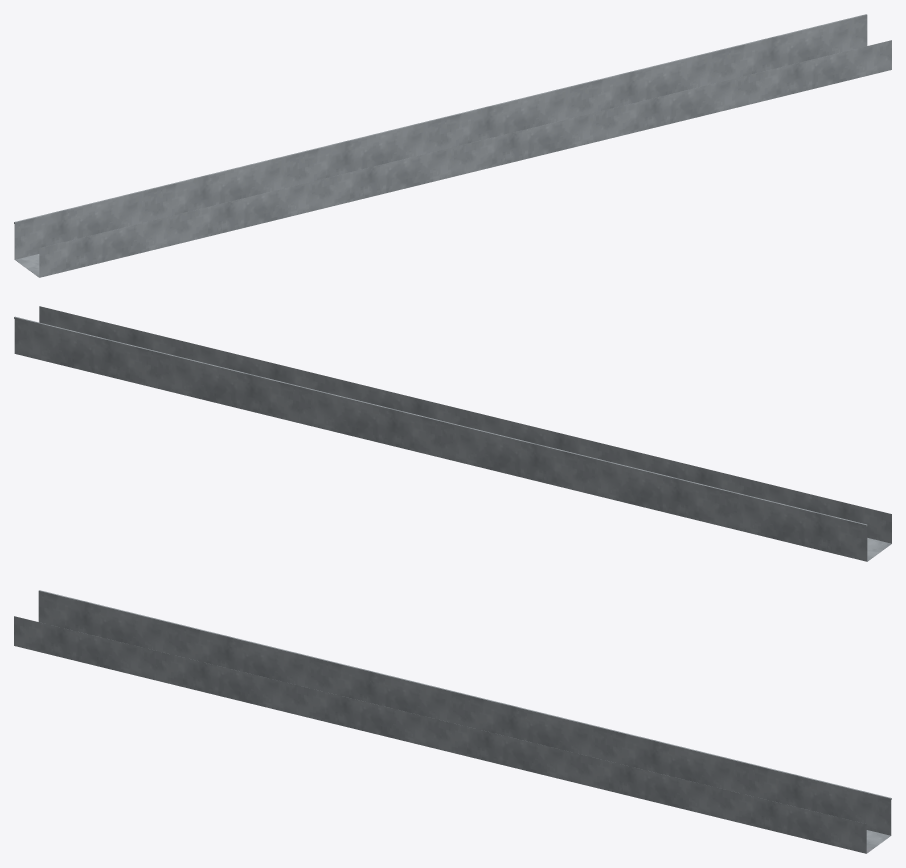
File: COB-CAL-001_lod1.glb
3 renders of one model, top to bottom at view 1: azimuth 30°, elevation 25°; view 2: azimuth 150°, elevation 25°; view 3: azimuth 330°, elevation 25°, orthographic.
Visible parts, largest first — view 1: COB-CAL-001_perfil; view 2: COB-CAL-001_perfil; view 3: COB-CAL-001_perfil.
Part boxes in pixels (x1=…): COB-CAL-001_perfil: x1=14, y1=14, x2=891, y2=277; COB-CAL-001_perfil: x1=14, y1=306, x2=891, y2=561; COB-CAL-001_perfil: x1=14, y1=590, x2=891, y2=853.
Bounding box in the file's own units: 3 × 0.1251 × 0.1549.
Materials: 1 (1 with a texture image).
